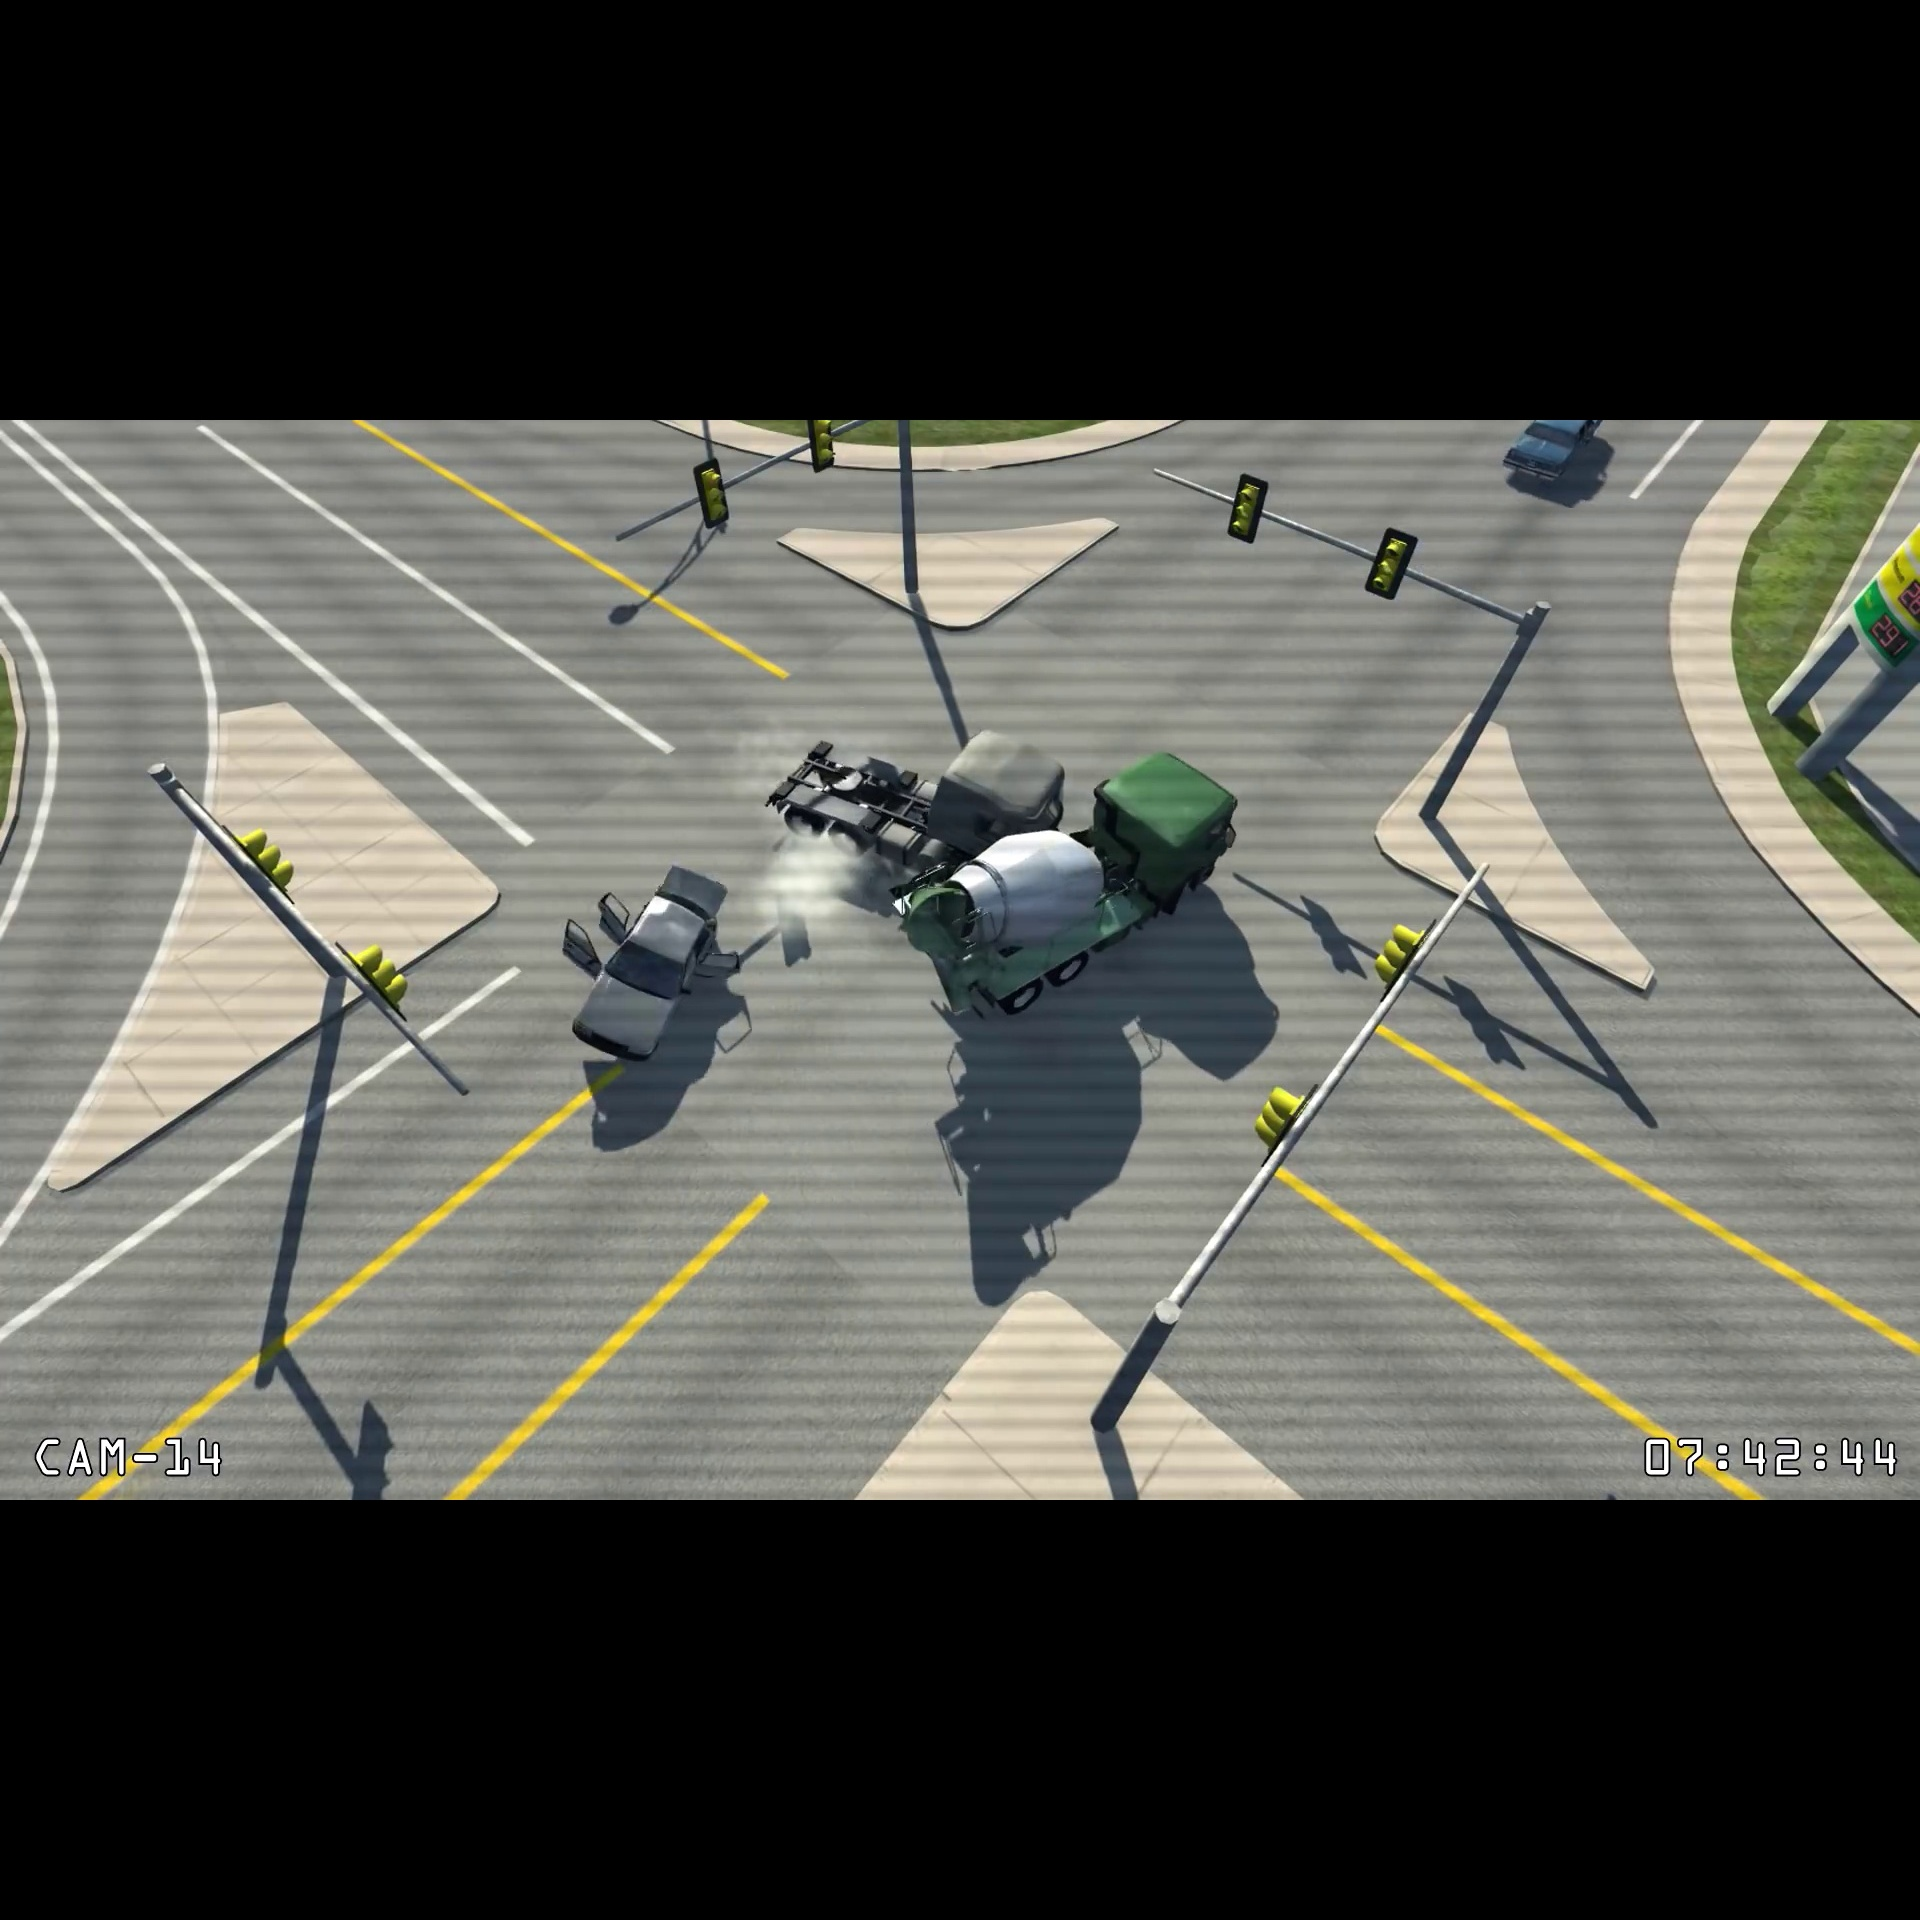vehicle: (888, 745, 1245, 1036), (758, 730, 1074, 883), (557, 860, 740, 1074), (1498, 418, 1619, 489)
